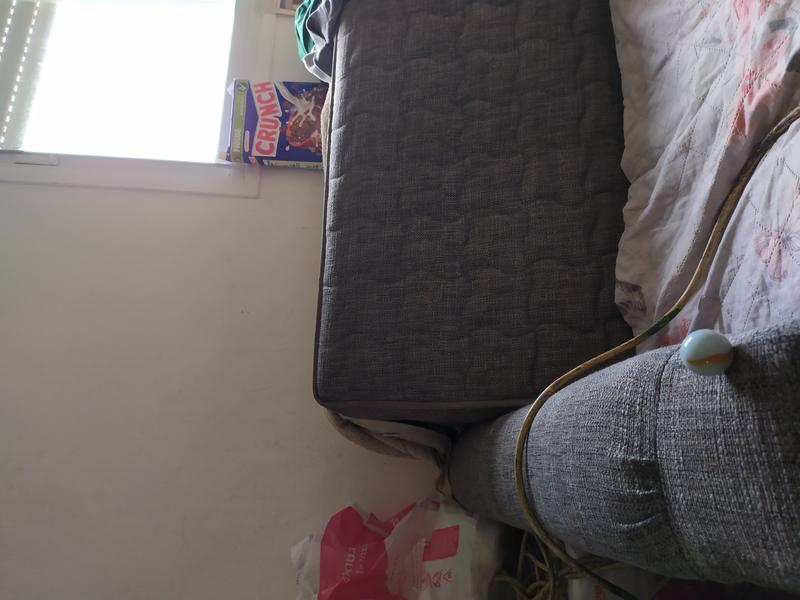Warning: (678, 326, 737, 378)
